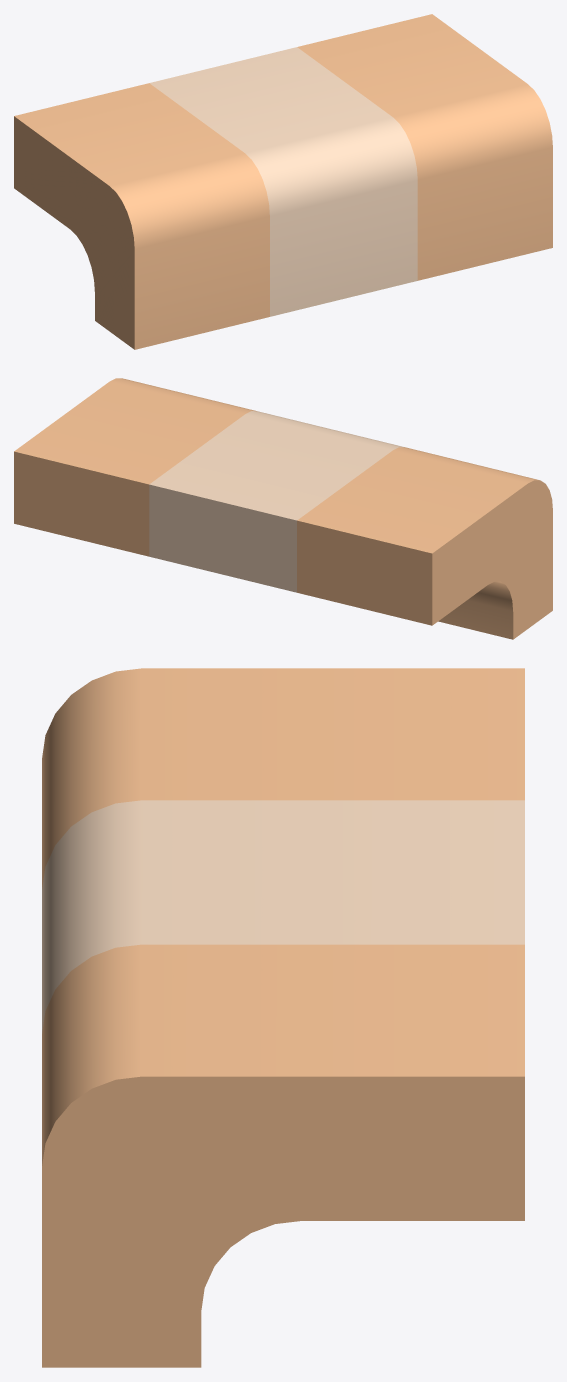
File: Link B L Type.fbx
3 views of the same model, one above another, from view 1: azimuth 30°, elevation 25°; view 2: azimuth 150°, elevation 25°; view 3: azimuth 270°, elevation 25° (orthographic). The views are drawn at different scales.
Parts seen in each view (by area): view 1: Link B L Type; view 2: Link B L Type; view 3: Link B L Type.
Boxes of the visible parts, <box> form: Link B L Type: <box>14,14,552,349</box>; Link B L Type: <box>14,378,552,639</box>; Link B L Type: <box>42,668,524,1367</box>.
Bounding box in the file's own units: 300 × 99.69 × 150.
